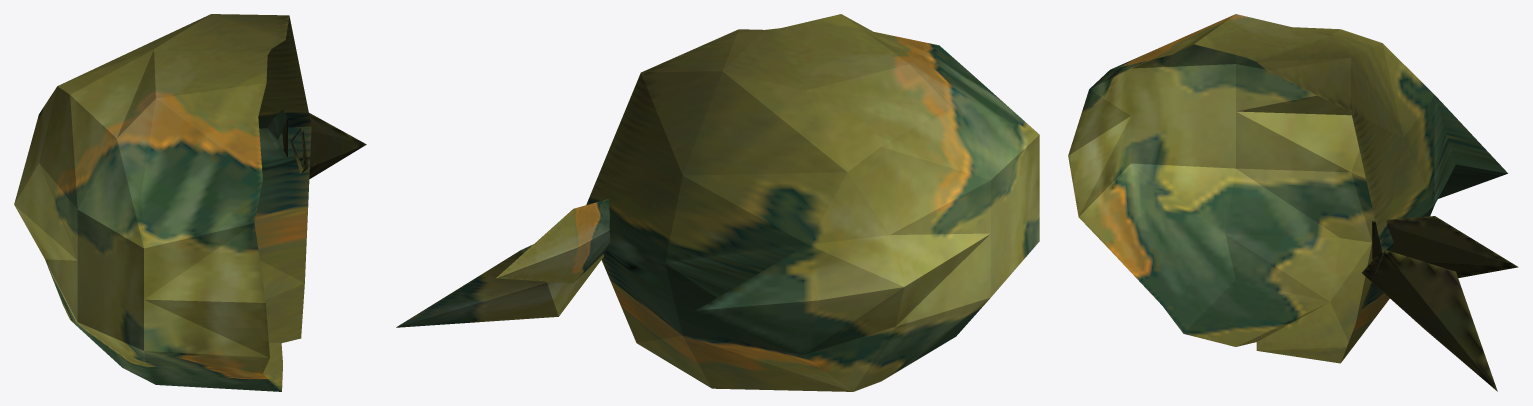
The model's file is WCHAINHELMET.obj.
3 renders of one model, left to right at view 1: azimuth 30°, elevation 25°; view 2: azimuth 150°, elevation 25°; view 3: azimuth 270°, elevation 25°, orthographic. The views are drawn at different scales.
Parts seen in each view (by area): view 1: Node 0; view 2: Node 0; view 3: Node 0.
Boxes of the visible parts, bbox=[...] form: Node 0: bbox=[14, 14, 366, 391]; Node 0: bbox=[396, 14, 1039, 391]; Node 0: bbox=[1068, 14, 1518, 391].
Size of the model in its own units: 0.44 by 0.3 by 0.43.
1 material, 1 textured.
